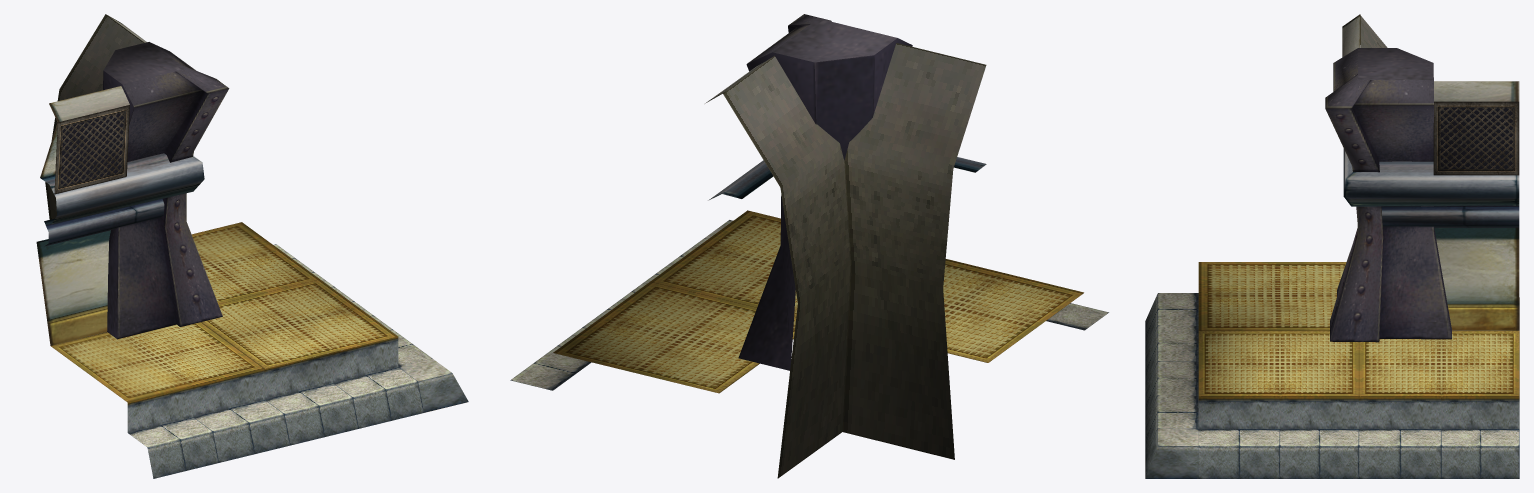
File: a_tunnelwall04.glb
3 renders of one model, left to right at view 1: azimuth 30°, elevation 25°; view 2: azimuth 150°, elevation 25°; view 3: azimuth 270°, elevation 25°, orthographic. The views are drawn at different scales.
Parts seen in each view (by area): view 1: a_tunnelwall04; view 2: a_tunnelwall04; view 3: a_tunnelwall04.
Part boxes in pixels (x1,y1,x2,y2): a_tunnelwall04: [36, 14, 468, 478]; a_tunnelwall04: [510, 14, 1108, 478]; a_tunnelwall04: [1145, 14, 1519, 478].
Bounding box in the file's own units: 3.5 × 3.2 × 3.5.
Materials: 6 (6 with a texture image).
